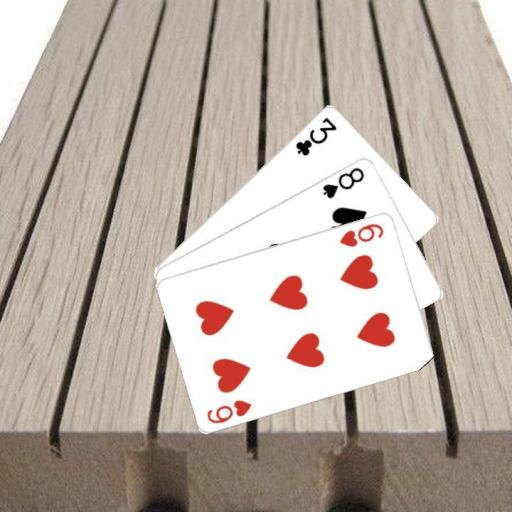3C: (293, 113, 339, 157)
6H: (204, 396, 253, 425), (337, 220, 386, 248)
8S: (320, 163, 367, 200)
